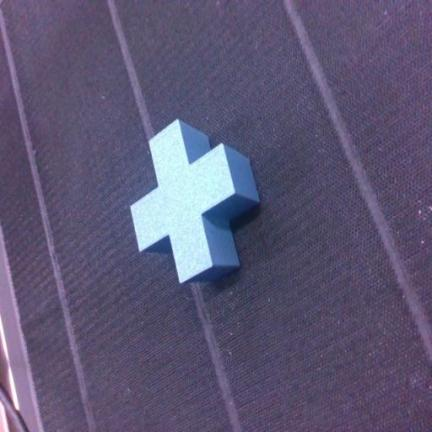cross: (131, 120, 259, 282)
